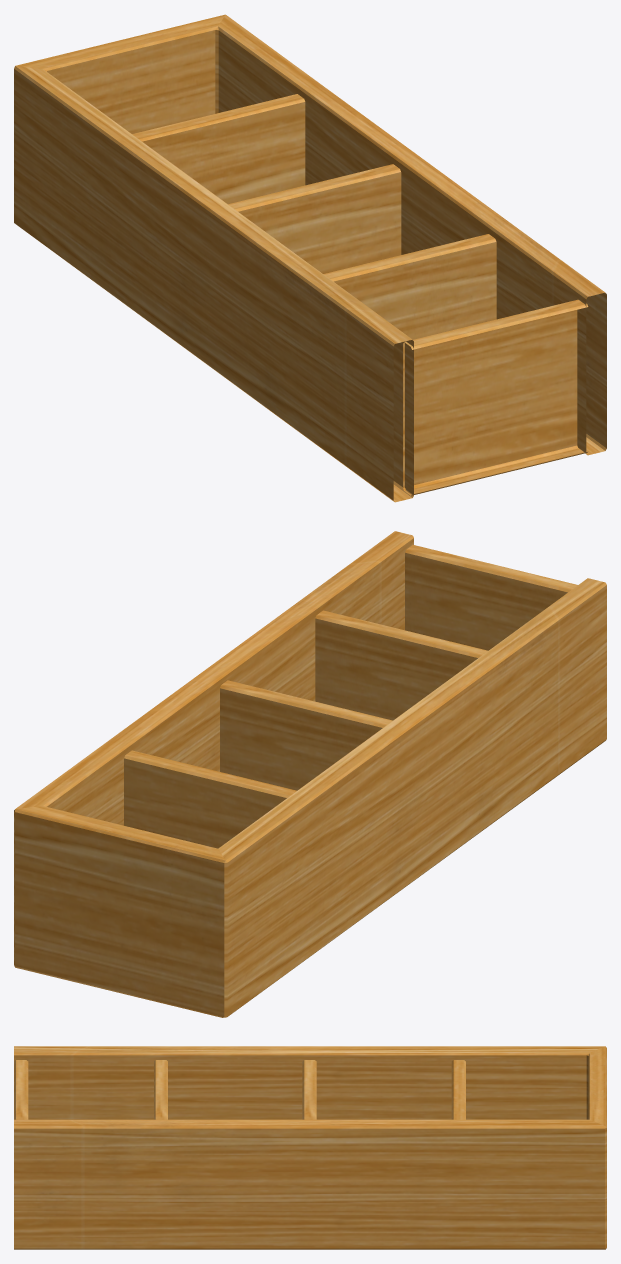
The model's file is cabinet003.FBX.
3 views of the same model, one above another, from view 1: azimuth 30°, elevation 25°; view 2: azimuth 150°, elevation 25°; view 3: azimuth 270°, elevation 25° (orthographic). The views are drawn at different scales.
Visible parts, largest first — view 1: cabinet003; view 2: cabinet003; view 3: cabinet003.
Part boxes in pixels (<box>): cabinet003: <box>14,14,606,502</box>; cabinet003: <box>14,531,606,1017</box>; cabinet003: <box>14,1046,606,1249</box>.
Size of the model in its own units: 51.79 by 36.76 by 160.
Materials: 1 (1 with a texture image).
